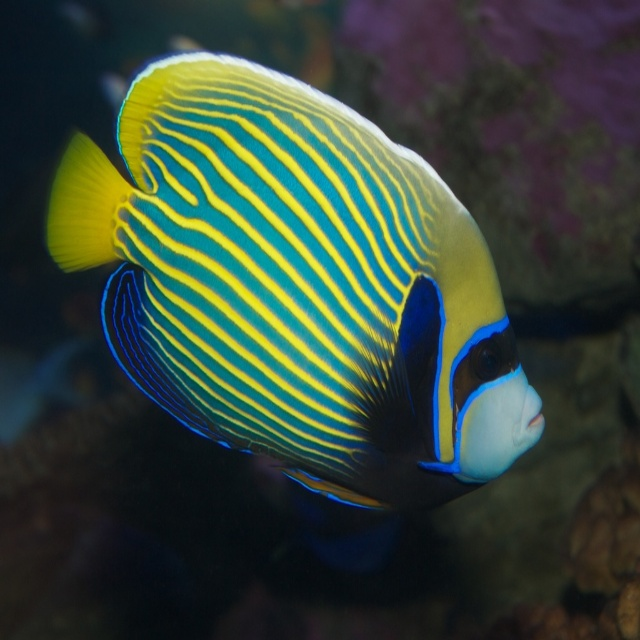Fish: (45, 53, 548, 523)
